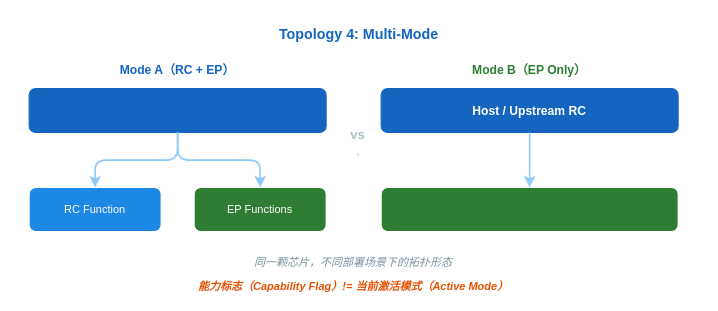
This 718x311 diagram has some shape labels left out. Here are the shapes that lost their labels. From the top down, the centre of each, then its label:
At (177,110): "Host CPU".
At (529,209): "EP Functions only".
